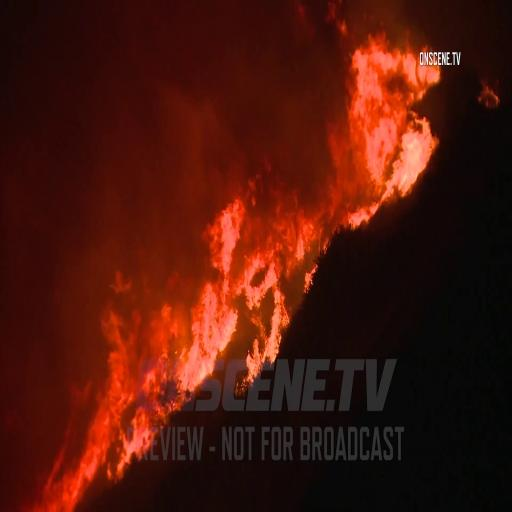fire: (55, 288, 157, 459), (338, 43, 433, 190), (191, 191, 292, 327)
